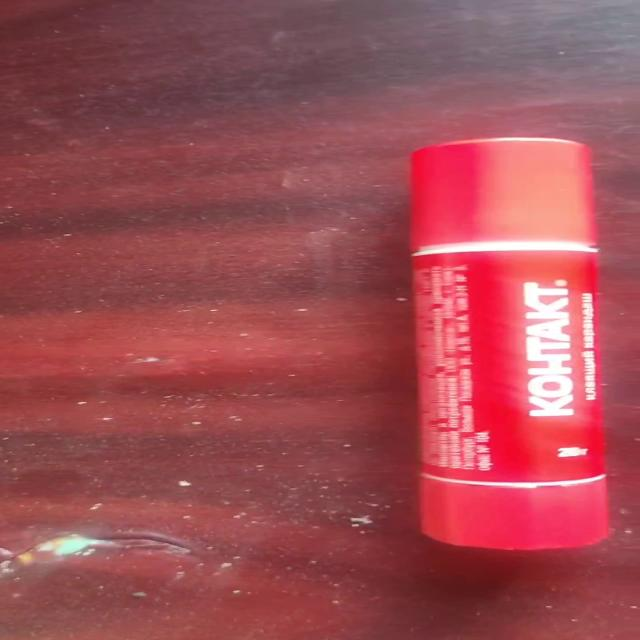glue: (407, 135, 610, 550)
